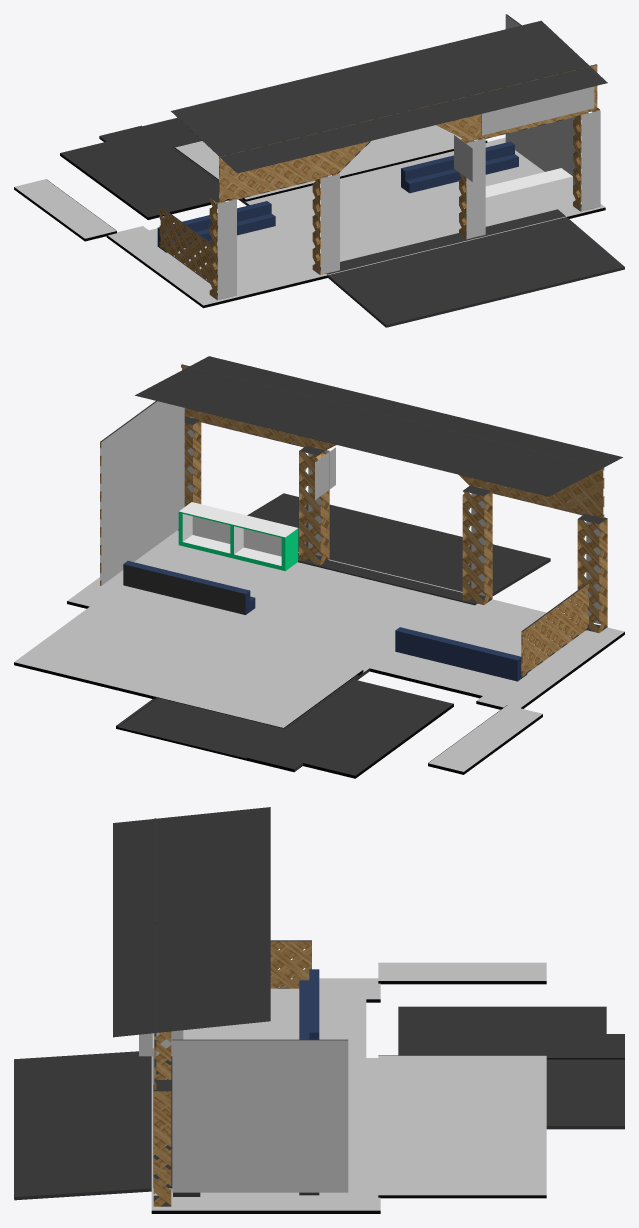
The model's file is FrontMesh_Export.FBX.
3 renders of one model, top to bottom at view 1: azimuth 30°, elevation 25°; view 2: azimuth 150°, elevation 25°; view 3: azimuth 270°, elevation 25°, orthographic. The views are drawn at different scales.
Parts seen in each view (by area): view 1: FrontMesh_Export; view 2: FrontMesh_Export; view 3: FrontMesh_Export.
Boxes of the visible parts, left/top/right/bottom form: FrontMesh_Export: left=14, top=14, right=624, bottom=327; FrontMesh_Export: left=14, top=356, right=624, bottom=778; FrontMesh_Export: left=14, top=807, right=624, bottom=1213.
Size of what is drawn, in the model's own units: 330 by 347 by 121.
